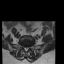CCS_normal: (25, 45, 27, 52)
LFS_stenosis: (29, 44, 30, 49)
LLS_normal: (27, 45, 29, 51)
RFS_stenosis: (22, 44, 24, 49)
RLS_normal: (24, 45, 25, 52)
